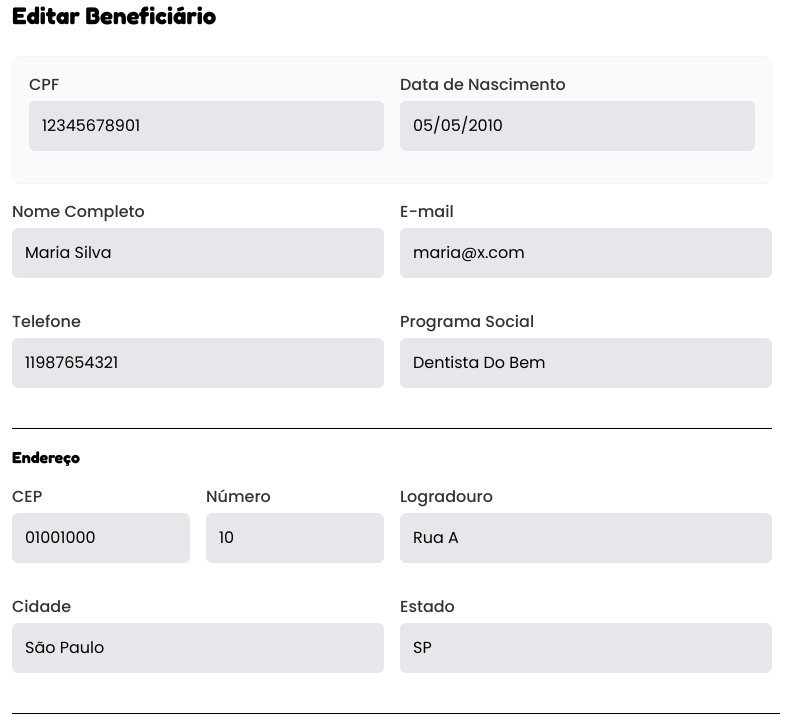
Test: falha de escrita que não é um Error: cada formulário usa o seu texto de reserva › UpdateBeneficiario
Replace the text in the field labelled "E-mail" with "novo@x.com": (586,253) [400,228,772,278]
(page scrolled)
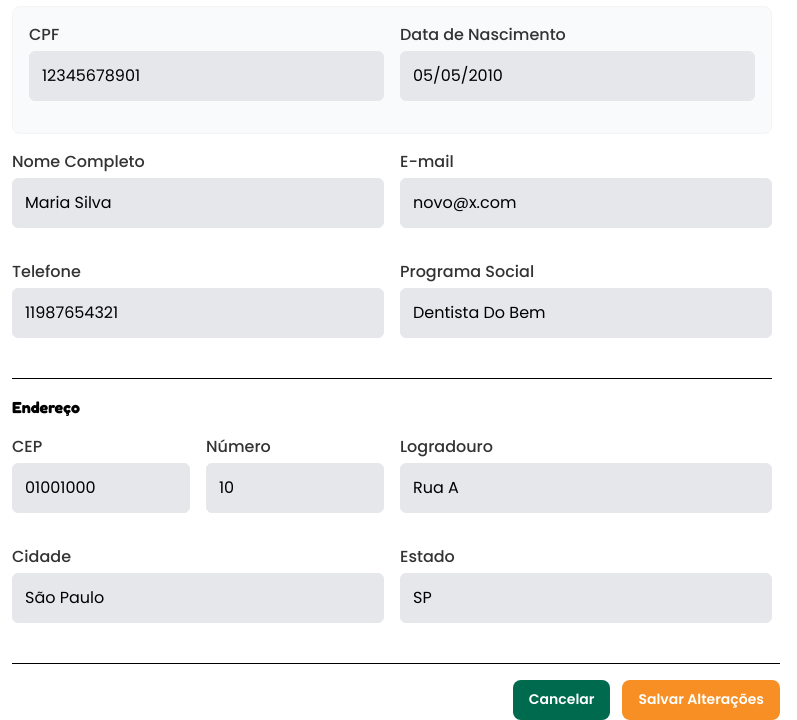
Click the button "Salvar Alterações": (701,700) [622,680,780,719]
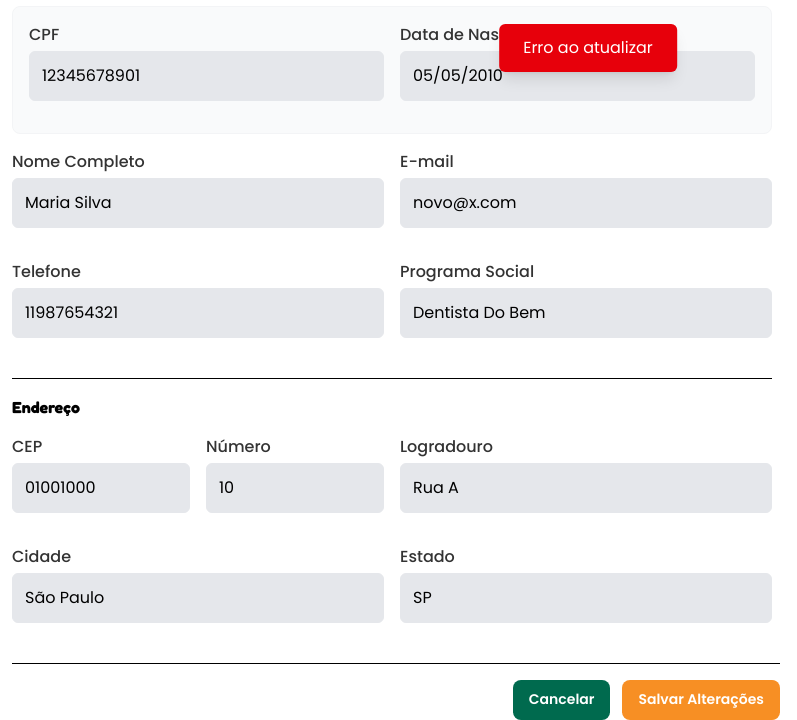
expect the text "Erro ao atualizar" is shown: met, box [499,24,677,72]
